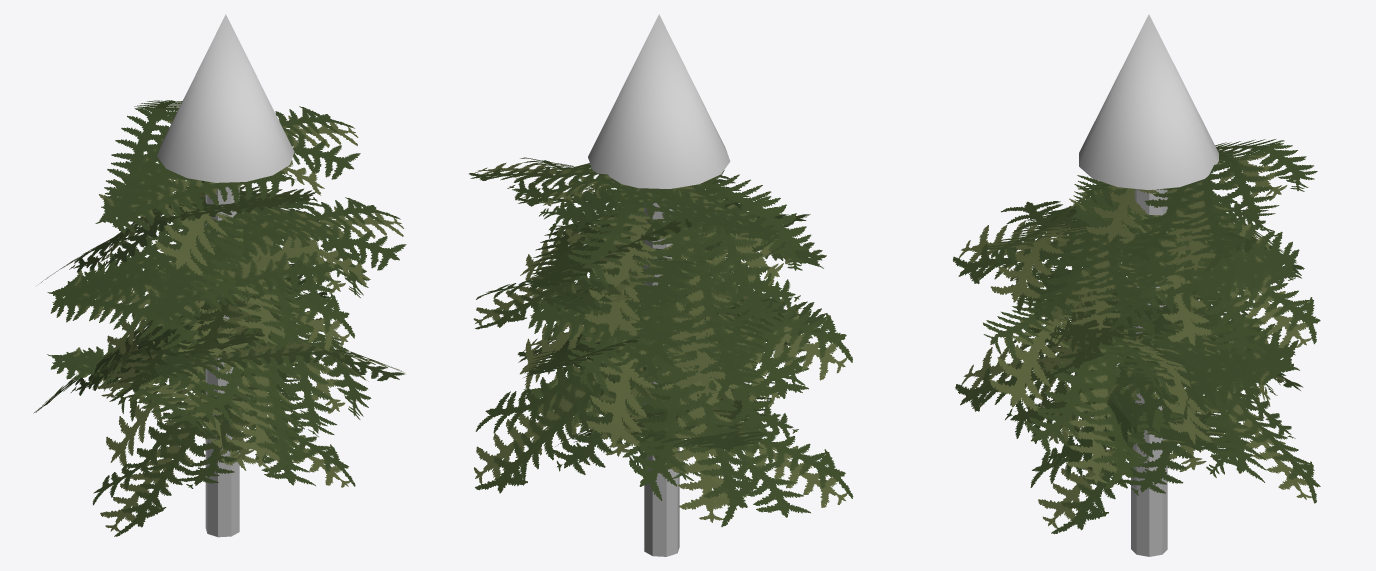
Rendered from Tree_Pine.fbx.
3 renders of one model, left to right at view 1: azimuth 30°, elevation 25°; view 2: azimuth 150°, elevation 25°; view 3: azimuth 270°, elevation 25°, orthographic. The views are drawn at different scales.
Visible parts, largest first — view 1: Tree_Pine:Tree_Pines1:pCylinder2group1pPlane7, Tree_Pine:Tree_Pines1:pCylinder2group1pCone1, Tree_Pine:pCylinder2group1pPlane7, Tree_Pine:Tree_Pines1:pCylinder2group1pPlane6, Tree_Pine:Tree_Pines1:pCylinder2group1pPlane5, Tree_Pine:Tree_Pines1:pCylinder2group1pPlane12, Tree_Pine:Tree_Pines1:pCylinder2group1pPlane9, Tree_Pine:Tree_Pines1:pCylinder2group1pPlane4, Tree_Pine:Tree_Pines1:pCylinder2group1pPlane11, Tree_Pine:Tree_Pines1:pCylinder2group1pPlane3, Tree_Pine:Tree_Pines1:pCylinder2group1pPlane8, Tree_Pine:Tree_Pines1:pCylinder2group1 (+3 smaller); view 2: Tree_Pine:Tree_Pines1:pCylinder2group1pPlane8, Tree_Pine:Tree_Pines1:pCylinder2group1pPlane1, Tree_Pine:Tree_Pines1:pCylinder2group1pCone1, Tree_Pine:Tree_Pines1:pCylinder2group1pPlane2, Tree_Pine:Tree_Pines1:pCylinder2group1pPlane11, Tree_Pine:pCylinder2group1pPlane7, Tree_Pine:Tree_Pines1:pCylinder2group1pPlane5, Tree_Pine:Tree_Pines1:pCylinder2group1pPlane10, Tree_Pine:Tree_Pines1:pCylinder2group1pPlane12, Tree_Pine:Tree_Pines1:pCylinder2group1pPlane9, Tree_Pine:Tree_Pines1:pCylinder2group1, Tree_Pine:Tree_Pines1:pCylinder2group1pPlane7 (+3 smaller); view 3: Tree_Pine:Tree_Pines1:pCylinder2group1pCone1, Tree_Pine:Tree_Pines1:pCylinder2group1pPlane9, Tree_Pine:Tree_Pines1:pCylinder2group1pPlane6, Tree_Pine:Tree_Pines1:pCylinder2group1pPlane3, Tree_Pine:pCylinder2group1pPlane7, Tree_Pine:Tree_Pines1:pCylinder2group1pPlane7, Tree_Pine:Tree_Pines1:pCylinder2group1pPlane2, Tree_Pine:Tree_Pines1:pCylinder2group1pPlane10, Tree_Pine:Tree_Pines1:pCylinder2group1pPlane4, Tree_Pine:Tree_Pines1:pCylinder2group1, Tree_Pine:Tree_Pines1:pCylinder2group1pPlane11, Tree_Pine:Tree_Pines1:pCylinder2group1pPlane12 (+2 smaller).
Boxes of the visible parts, box(x1,y1,x2,y2) form: Tree_Pine:Tree_Pines1:pCylinder2group1pPlane7: box(141, 191, 406, 324); Tree_Pine:Tree_Pines1:pCylinder2group1pCone1: box(157, 14, 294, 182); Tree_Pine:pCylinder2group1pPlane7: box(95, 100, 360, 233); Tree_Pine:Tree_Pines1:pCylinder2group1pPlane6: box(148, 283, 371, 475); Tree_Pine:Tree_Pines1:pCylinder2group1pPlane5: box(92, 348, 305, 536); Tree_Pine:Tree_Pines1:pCylinder2group1pPlane12: box(47, 223, 354, 373); Tree_Pine:Tree_Pines1:pCylinder2group1pPlane9: box(151, 180, 369, 349); Tree_Pine:Tree_Pines1:pCylinder2group1pPlane4: box(47, 343, 355, 487); Tree_Pine:Tree_Pines1:pCylinder2group1pPlane11: box(90, 264, 314, 401); Tree_Pine:Tree_Pines1:pCylinder2group1pPlane3: box(139, 323, 404, 381); Tree_Pine:Tree_Pines1:pCylinder2group1pPlane8: box(38, 181, 315, 284); Tree_Pine:Tree_Pines1:pCylinder2group1: box(205, 186, 239, 537); Tree_Pine:Tree_Pines1:pCylinder2group1pPlane8: box(568, 170, 811, 399); Tree_Pine:Tree_Pines1:pCylinder2group1pPlane1: box(568, 258, 808, 526); Tree_Pine:Tree_Pines1:pCylinder2group1pCone1: box(588, 14, 730, 188); Tree_Pine:Tree_Pines1:pCylinder2group1pPlane2: box(474, 277, 757, 493); Tree_Pine:Tree_Pines1:pCylinder2group1pPlane11: box(525, 240, 852, 404); Tree_Pine:pCylinder2group1pPlane7: box(469, 157, 779, 243); Tree_Pine:Tree_Pines1:pCylinder2group1pPlane5: box(523, 372, 853, 517); Tree_Pine:Tree_Pines1:pCylinder2group1pPlane10: box(473, 223, 735, 329); Tree_Pine:Tree_Pines1:pCylinder2group1pPlane12: box(552, 283, 784, 387); Tree_Pine:Tree_Pines1:pCylinder2group1pPlane9: box(526, 202, 810, 291); Tree_Pine:Tree_Pines1:pCylinder2group1: box(644, 195, 679, 556); Tree_Pine:Tree_Pines1:pCylinder2group1pPlane7: box(517, 175, 826, 268); Tree_Pine:Tree_Pines1:pCylinder2group1pCone1: box(1079, 14, 1218, 189); Tree_Pine:Tree_Pines1:pCylinder2group1pPlane9: box(953, 184, 1301, 354); Tree_Pine:Tree_Pines1:pCylinder2group1pPlane6: box(955, 267, 1299, 475); Tree_Pine:Tree_Pines1:pCylinder2group1pPlane3: box(983, 270, 1208, 488); Tree_Pine:pCylinder2group1pPlane7: box(1078, 139, 1317, 272); Tree_Pine:Tree_Pines1:pCylinder2group1pPlane7: box(982, 206, 1209, 331); Tree_Pine:Tree_Pines1:pCylinder2group1pPlane2: box(1045, 298, 1320, 503); Tree_Pine:Tree_Pines1:pCylinder2group1pPlane10: box(1054, 194, 1320, 354); Tree_Pine:Tree_Pines1:pCylinder2group1pPlane4: box(1030, 315, 1270, 534); Tree_Pine:Tree_Pines1:pCylinder2group1: box(1131, 189, 1167, 556); Tree_Pine:Tree_Pines1:pCylinder2group1pPlane11: box(1012, 266, 1250, 370); Tree_Pine:Tree_Pines1:pCylinder2group1pPlane12: box(1036, 268, 1259, 376).
Size of the model in its own units: 22.34 by 32.21 by 24.81.
